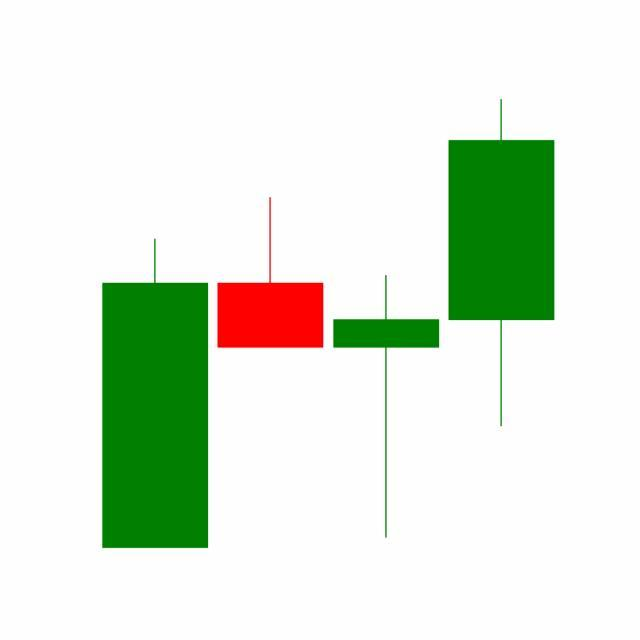Spinning Top: (329, 273, 445, 542)
